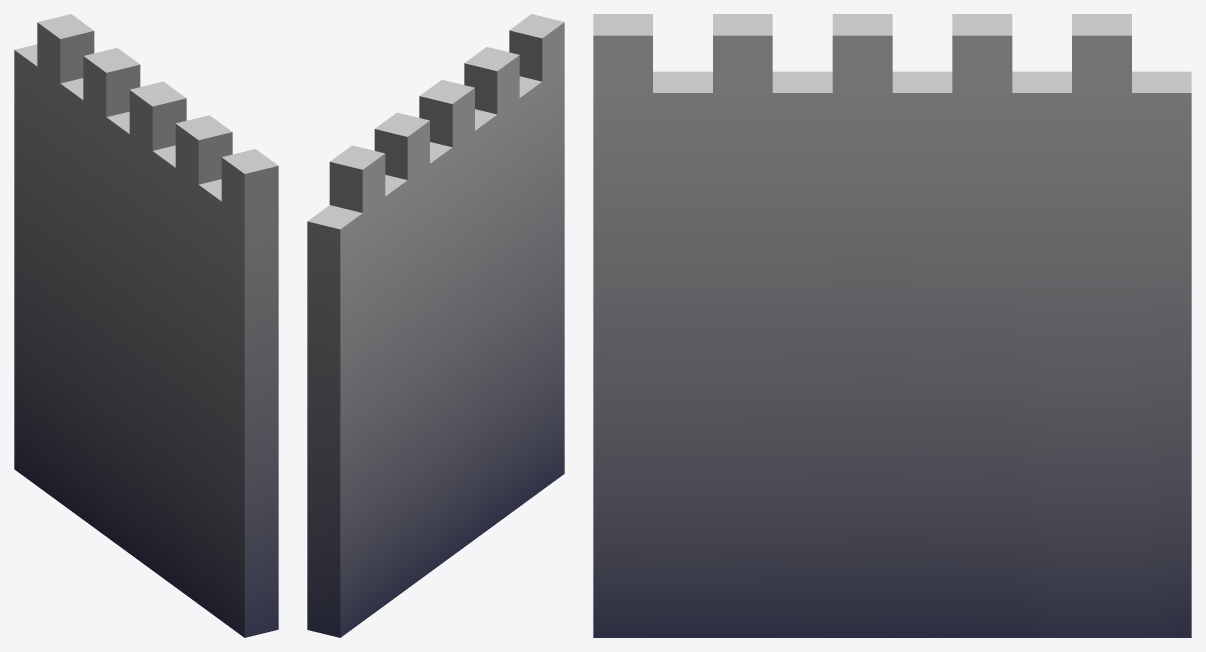
The model's file is decoration_castletower-wall01.fbx.
The picture shows the model from 3 angles, left to right: view 1: azimuth 30°, elevation 25°; view 2: azimuth 150°, elevation 25°; view 3: azimuth 270°, elevation 25°; orthographic projection. The views are drawn at different scales.
Parts seen in each view (by area): view 1: towerwall; view 2: towerwall; view 3: towerwall.
Part boxes in pixels (bbox=[...]): towerwall: bbox=[14, 14, 278, 637]; towerwall: bbox=[307, 14, 564, 637]; towerwall: bbox=[593, 14, 1191, 637].
Size of the model in its own units: 160 by 2091 by 1882.
